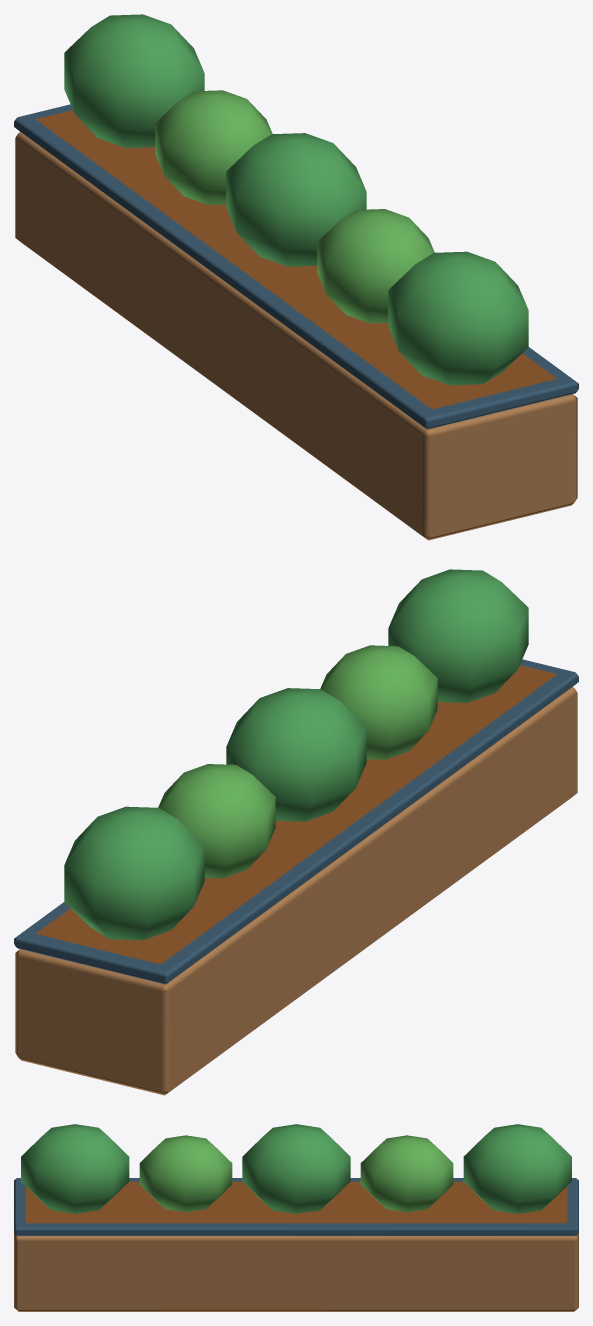
Rendered from CM_Shell_Planter.fbx.
3 views of the same model, one above another, from view 1: azimuth 30°, elevation 25°; view 2: azimuth 150°, elevation 25°; view 3: azimuth 270°, elevation 25° (orthographic). The views are drawn at different scales.
Visible parts, largest first — view 1: Body, Shrub; view 2: Body, Shrub; view 3: Body, Shrub.
Boxes of the visible parts, x1,y1,x2,y2 form: Body: [14, 104, 578, 540]; Shrub: [64, 14, 528, 385]; Body: [14, 659, 578, 1095]; Shrub: [64, 569, 528, 940]; Body: [14, 1178, 578, 1311]; Shrub: [21, 1124, 571, 1213].
Bounding box in the file's own units: 2.6 × 12 × 3.73.
Materials: 1 (1 with a texture image).
